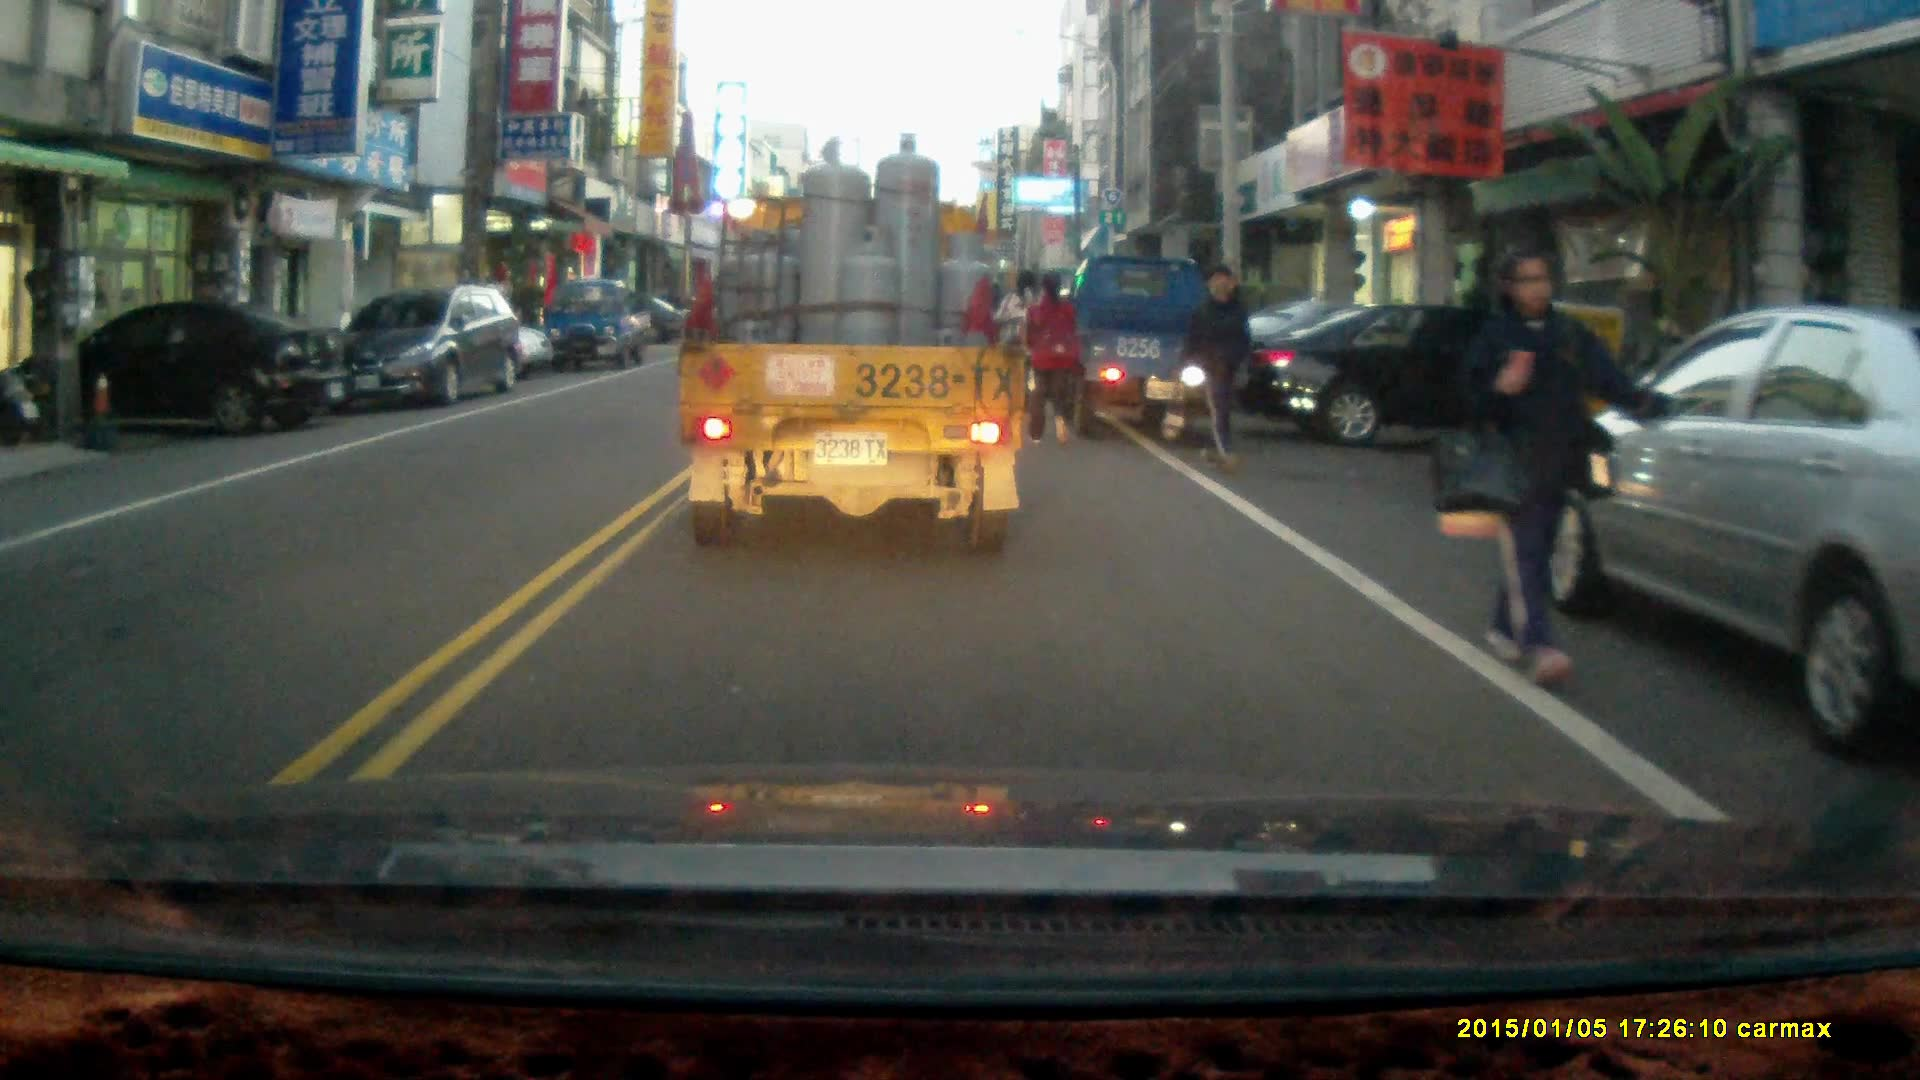pedestrian: (1461, 242, 1660, 690), (1179, 262, 1249, 477), (1020, 271, 1079, 451)
vehicle: (1512, 308, 1920, 733), (676, 131, 1034, 561), (1233, 300, 1572, 471), (3, 301, 350, 443), (1062, 259, 1268, 451), (327, 290, 531, 416), (544, 278, 654, 375)
